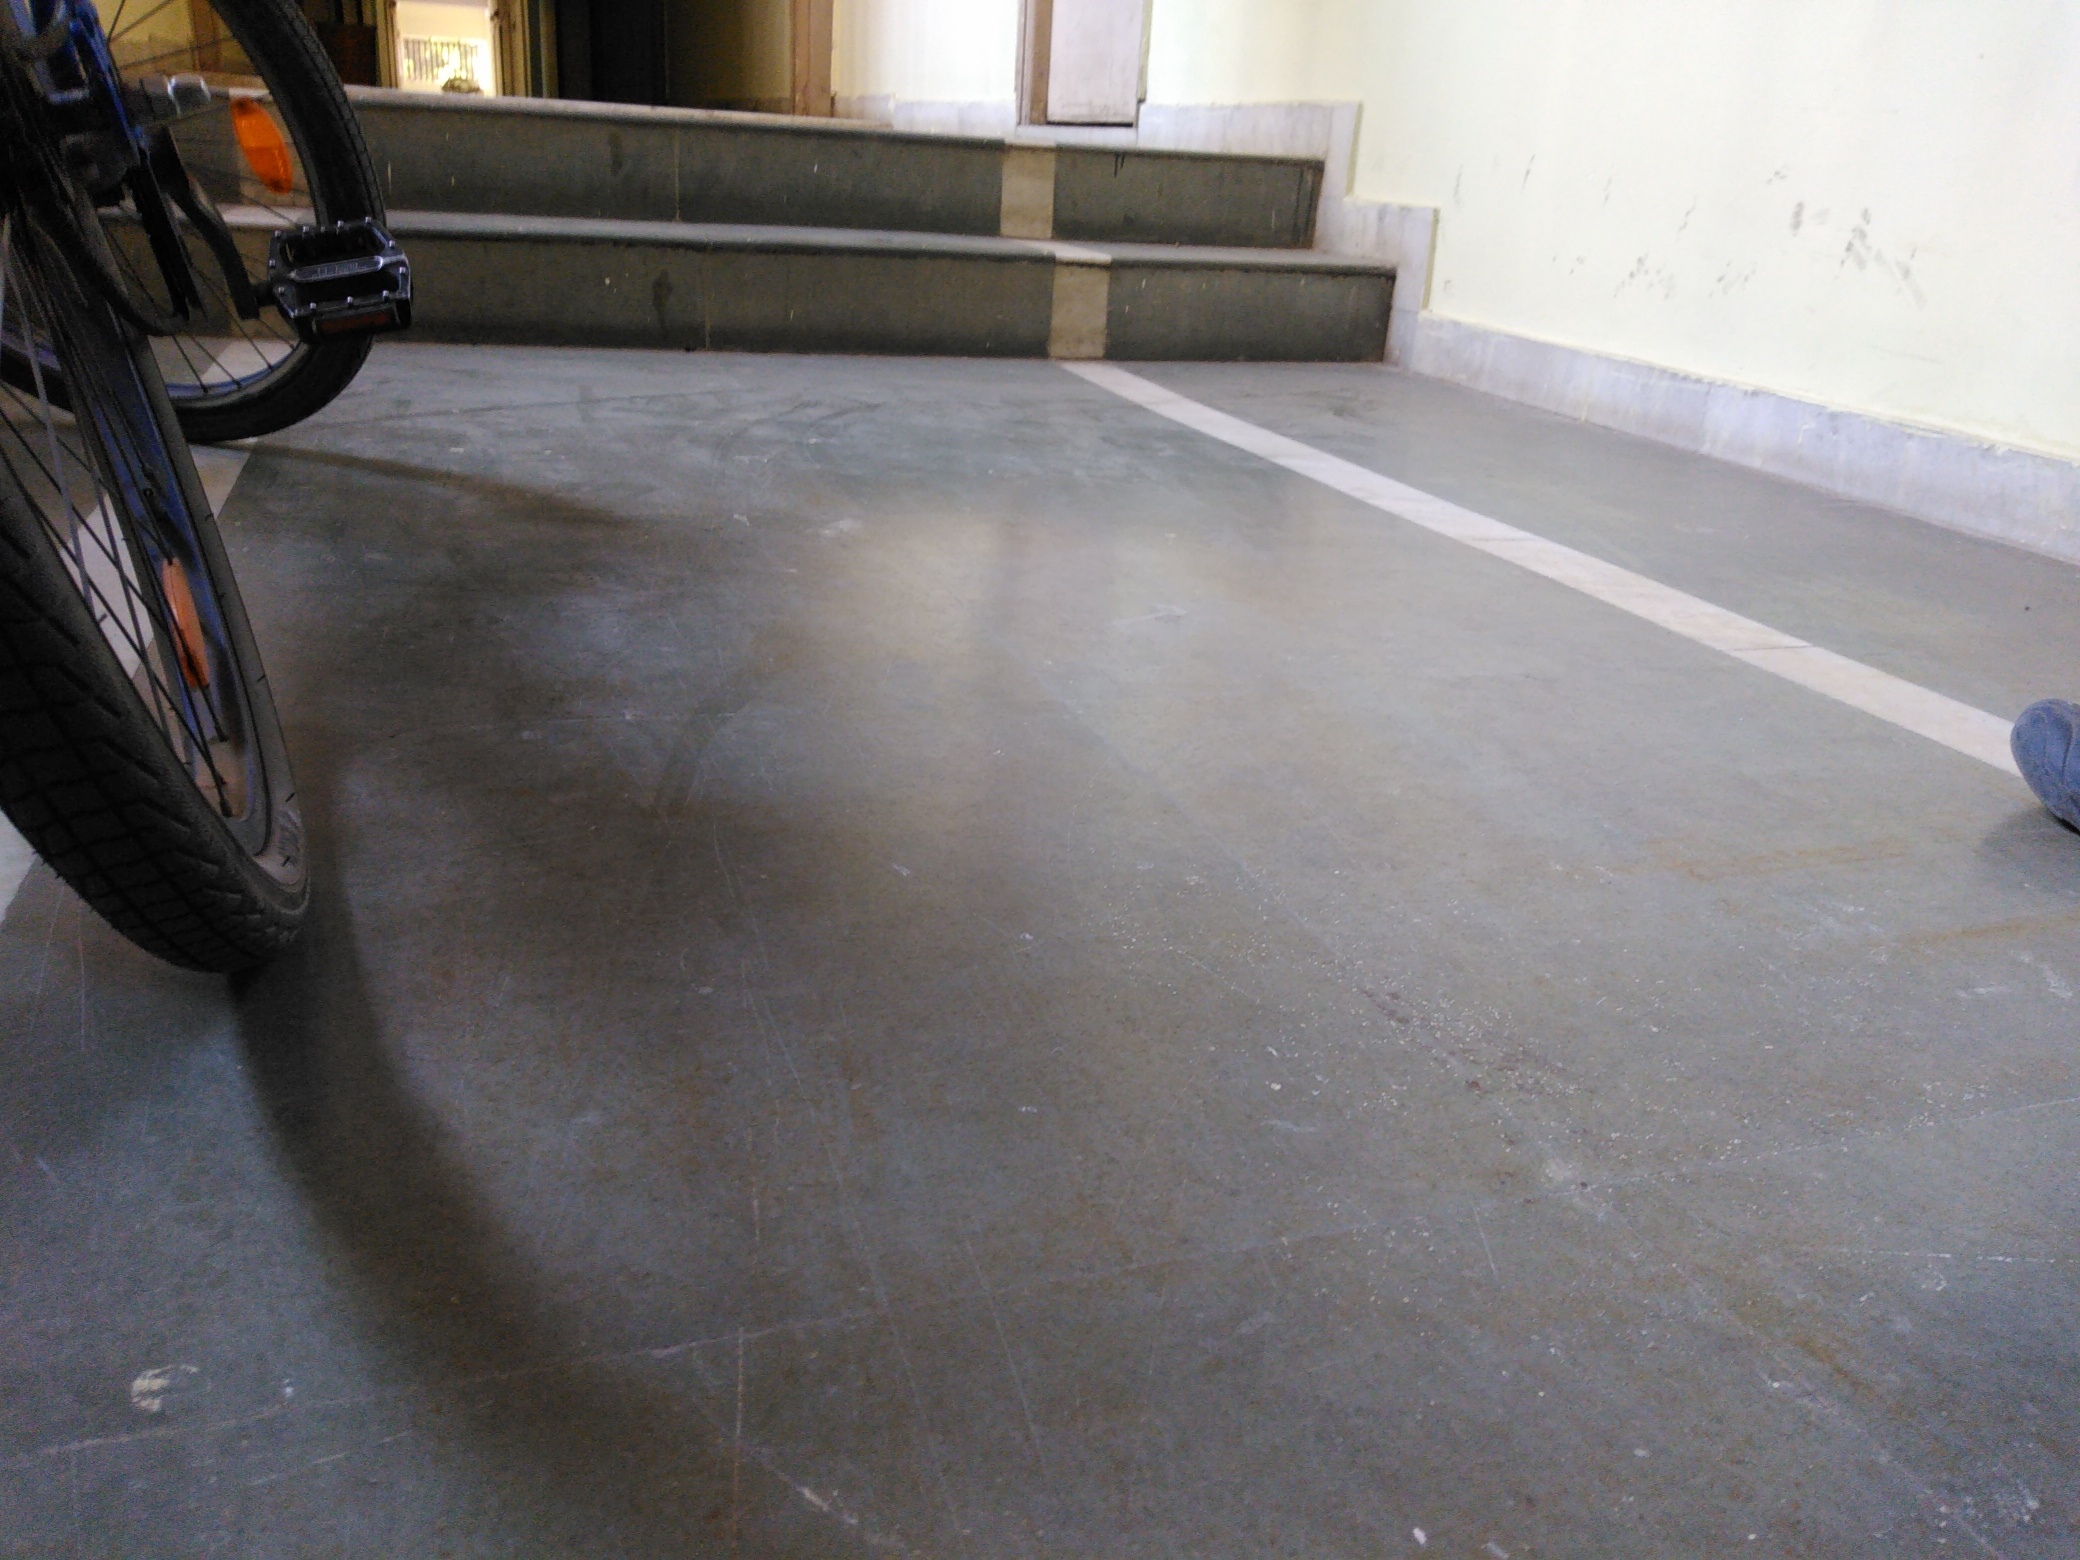stairs_up: (408, 67, 1400, 377)
